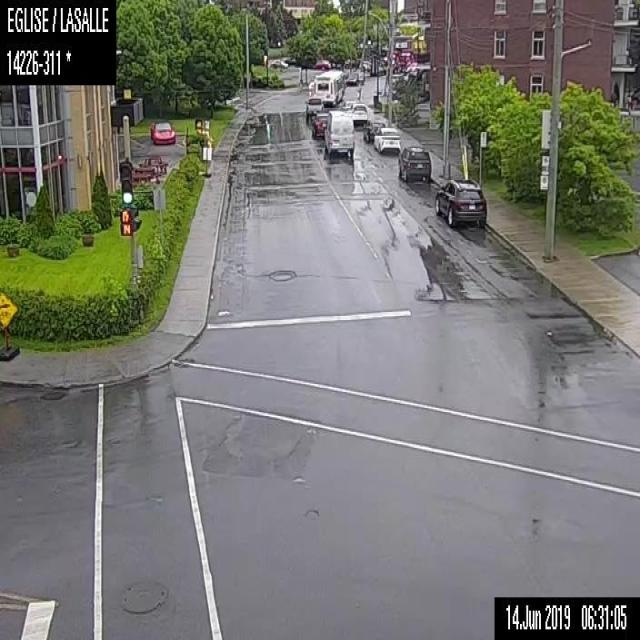bus: (313, 67, 346, 102)
vehicle: (431, 177, 486, 228), (322, 110, 356, 160), (396, 145, 431, 181), (372, 125, 401, 153), (147, 118, 175, 144), (362, 116, 386, 142), (349, 102, 369, 125), (305, 95, 323, 119), (311, 112, 328, 137), (269, 56, 288, 69), (345, 69, 358, 85)
